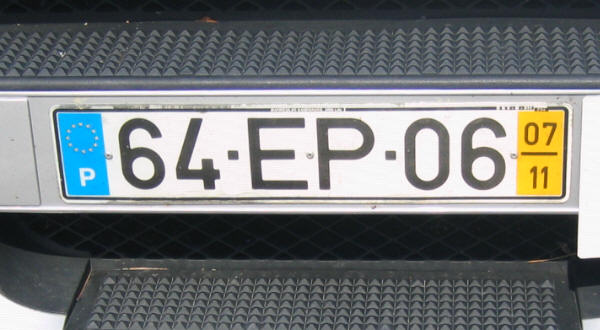license_plate: (51, 107, 571, 202)
